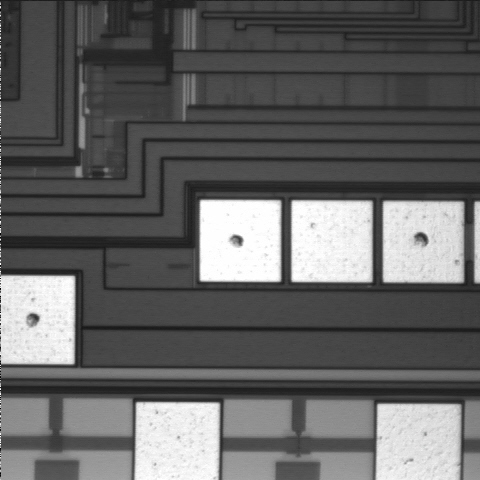pad: (200, 200, 281, 282), (291, 200, 372, 282), (383, 201, 463, 282)
